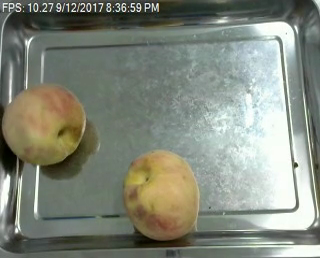Peach: (1, 83, 87, 166), (123, 149, 199, 240)
